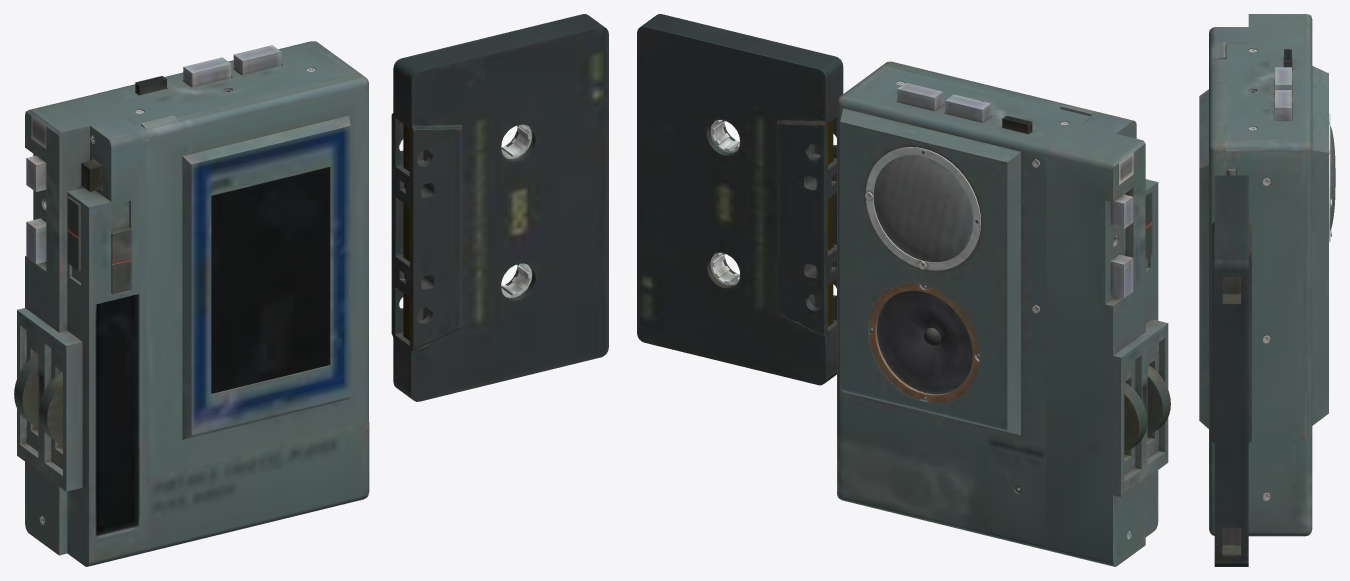
File: portable_cassette_player.glb
3 views of the same model, side by side, from view 1: azimuth 30°, elevation 25°; view 2: azimuth 150°, elevation 25°; view 3: azimuth 270°, elevation 25° (orthographic). The views are drawn at different scales.
Visible parts, largest first — view 1: portable_cassette_player, portable_cassette_player_lid, portable_cassette_player_casette; view 2: portable_cassette_player, portable_cassette_player_casette, portable_cassette_player_lid; view 3: portable_cassette_player, portable_cassette_player_casette, portable_cassette_player_lid.
Boxes of the visible parts, <box> form: portable_cassette_player: <box>14,41,369,566</box>; portable_cassette_player_lid: <box>141,72,368,476</box>; portable_cassette_player_casette: <box>391,14,608,401</box>; portable_cassette_player: <box>837,66,1170,566</box>; portable_cassette_player_casette: <box>637,14,843,385</box>; portable_cassette_player_lid: <box>881,61,1096,116</box>; portable_cassette_player: <box>1209,14,1335,536</box>; portable_cassette_player_casette: <box>1211,175,1251,566</box>; portable_cassette_player_lid: <box>1199,42,1235,466</box>.
Bounding box in the file's own units: 0.1723 × 0.1303 × 0.0397.
2 materials, 2 textured.
